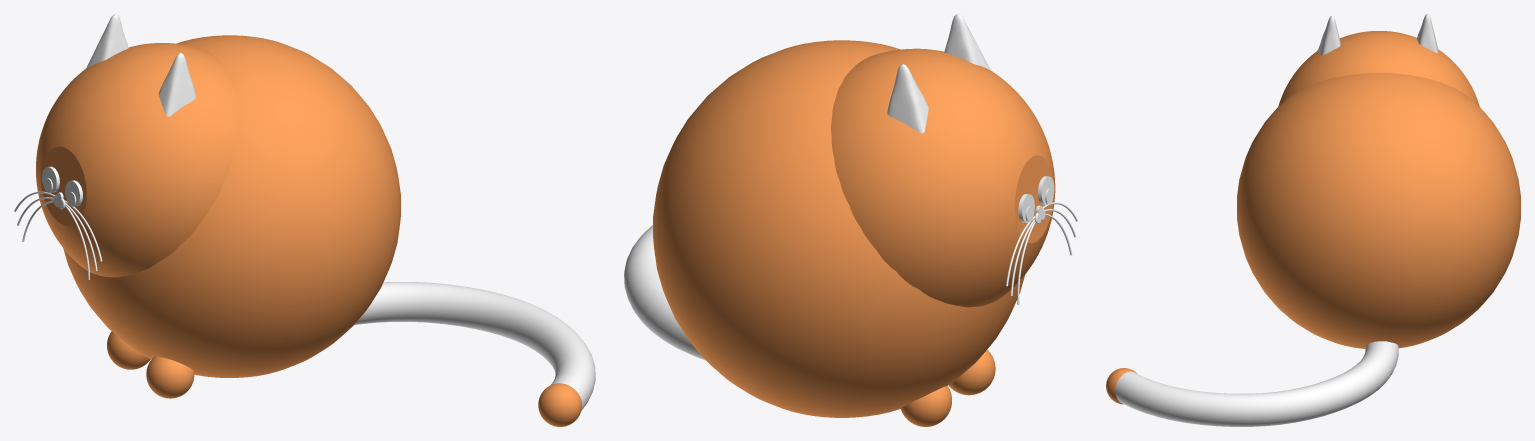
File: fat_cat_obj.obj
3 renders of one model, left to right at view 1: azimuth 30°, elevation 25°; view 2: azimuth 150°, elevation 25°; view 3: azimuth 270°, elevation 25°, orthographic. The views are drawn at different scales.
Visible parts, largest first — view 1: boddy, Sphere.1, tail, Pyramid, Cube, right_foot, tail_tip, left_foot; view 2: boddy, Sphere.1, tail, Pyramid, Cube, left_foot, right_foot; view 3: boddy, tail, Sphere.1, Pyramid, tail_tip.
Boxes of the visible parts, x1=… form: boddy: x1=63, y1=35, x2=400, y2=377; Sphere.1: x1=36, y1=43, x2=239, y2=277; tail: x1=354, y1=282, x2=595, y2=410; Pyramid: x1=86, y1=14, x2=196, y2=116; Cube: x1=41, y1=146, x2=86, y2=225; right_foot: x1=146, y1=356, x2=194, y2=398; tail_tip: x1=538, y1=383, x2=581, y2=426; left_foot: x1=107, y1=331, x2=150, y2=369; boddy: x1=653, y1=40, x2=1024, y2=417; Sphere.1: x1=831, y1=48, x2=1055, y2=307; tail: x1=624, y1=225, x2=704, y2=359; Pyramid: x1=887, y1=14, x2=990, y2=133; Cube: x1=1014, y1=155, x2=1053, y2=243; left_foot: x1=900, y1=386, x2=951, y2=426; right_foot: x1=948, y1=349, x2=995, y2=395; boddy: x1=1237, y1=73, x2=1520, y2=348; tail: x1=1115, y1=341, x2=1398, y2=426; Sphere.1: x1=1278, y1=31, x2=1479, y2=106; Pyramid: x1=1317, y1=14, x2=1438, y2=55; tail_tip: x1=1106, y1=368, x2=1137, y2=404.
Size of the model in its own units: 26.58 by 20.15 by 26.16.
